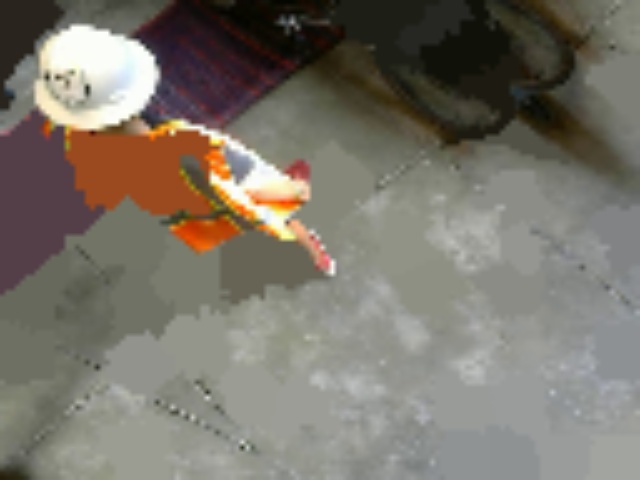three: (35, 60, 98, 109)
